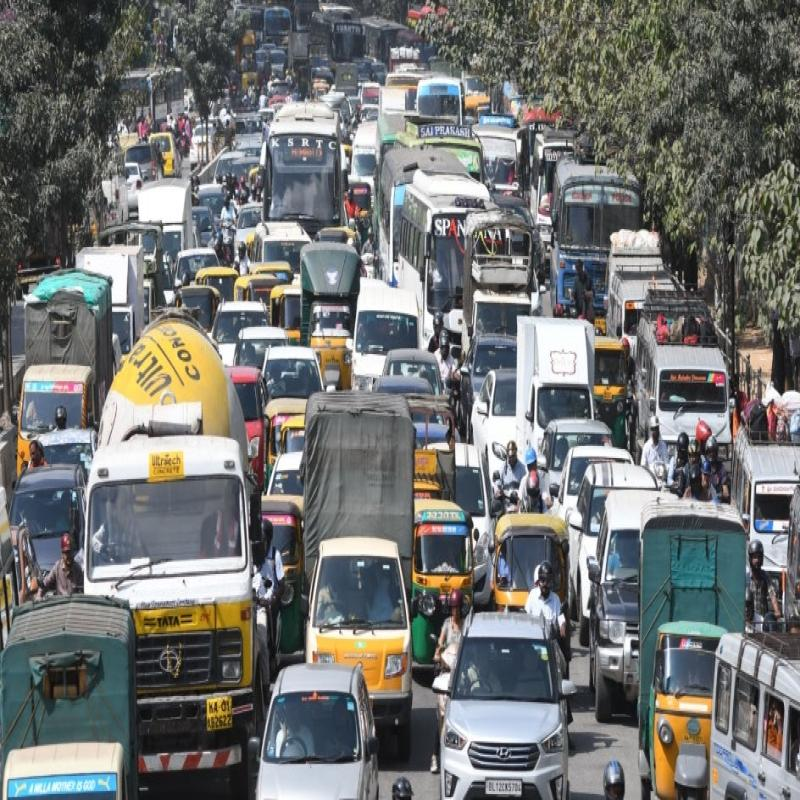auto: (414, 502, 470, 653)
bus: (396, 166, 497, 320), (263, 102, 341, 236)
car: (445, 625, 570, 800), (254, 668, 376, 800), (603, 502, 683, 684), (542, 416, 611, 498), (212, 289, 269, 362)
